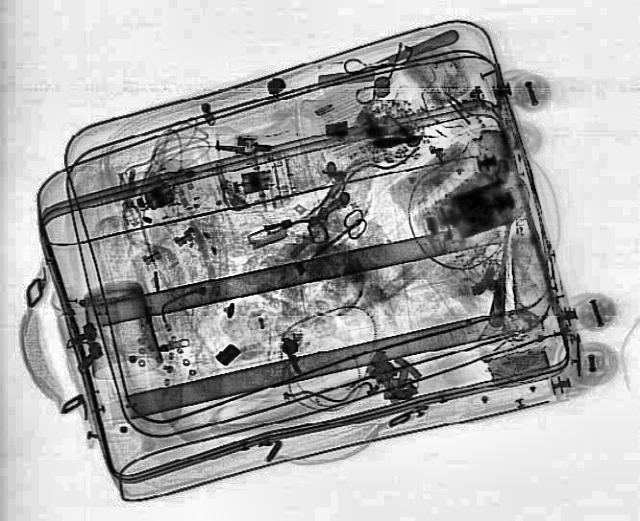Scissors: (300, 206, 378, 266)
